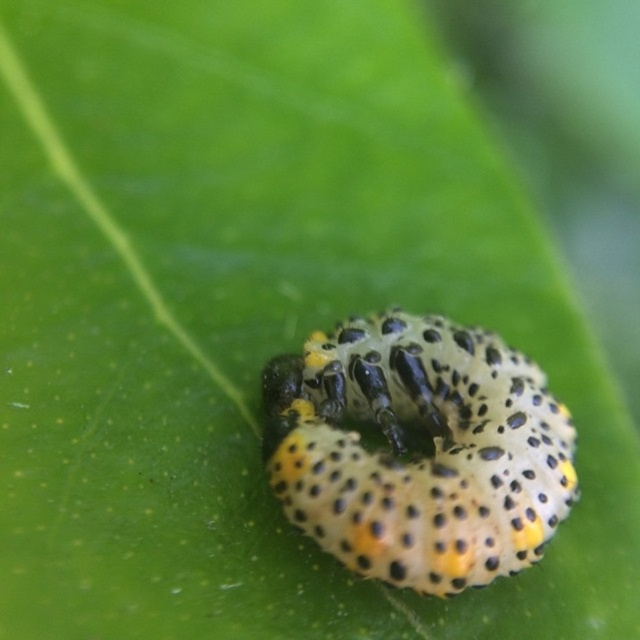Caterpillar: (266, 301, 581, 601)
